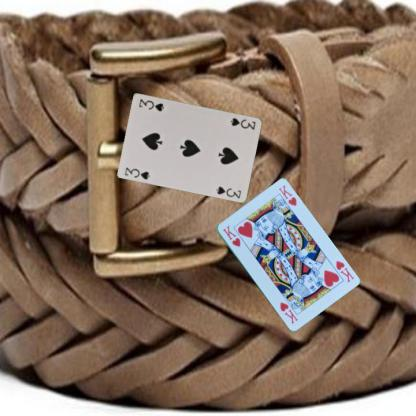3s: (228, 115, 257, 131), (122, 165, 152, 180)
Kh: (219, 223, 242, 248), (333, 258, 355, 284)
